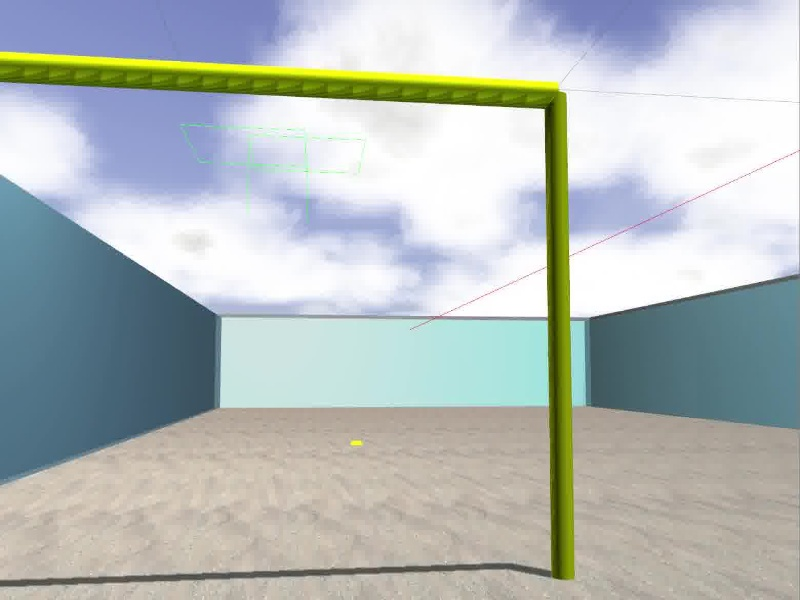gate: (1, 51, 577, 580)
